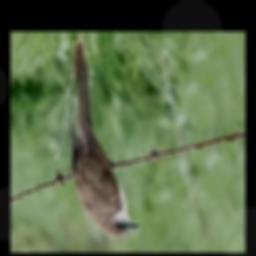Cuckoo: (69, 36, 140, 237)
